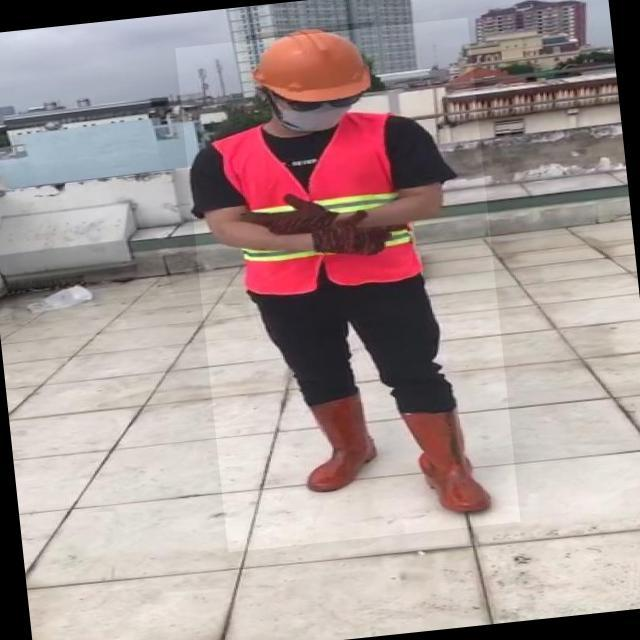Gloves: (239, 191, 336, 242), (316, 208, 407, 260)
Helmet: (246, 21, 381, 110)
Human: (175, 17, 520, 552)
Safety Boot: (392, 402, 494, 521), (296, 391, 379, 493)
Safety Vest: (206, 110, 421, 298)
